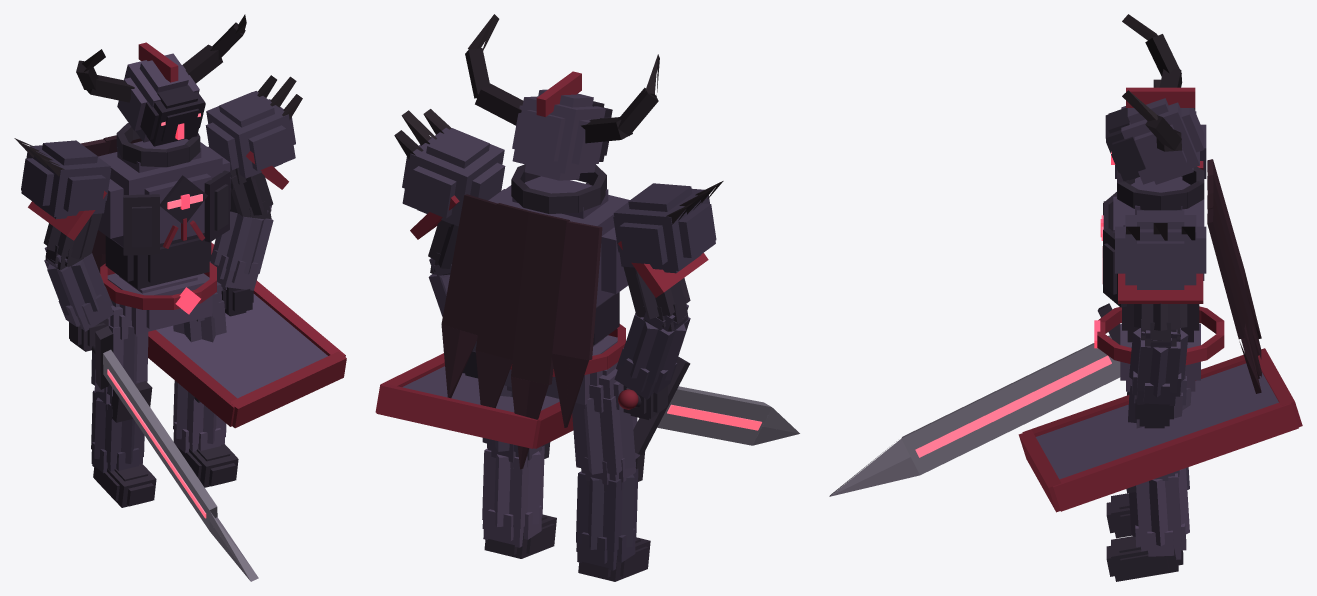
3 renders of one model, left to right at view 1: azimuth 30°, elevation 25°; view 2: azimuth 150°, elevation 25°; view 3: azimuth 270°, elevation 25°, orthographic. The views are drawn at different scales.
Visible parts, largest first — view 1: AbyssKnight; view 2: AbyssKnight; view 3: AbyssKnight.
Boxes of the visible parts, x1,y1,x2,y2 form: AbyssKnight: (14, 14, 346, 581); AbyssKnight: (375, 14, 799, 581); AbyssKnight: (829, 14, 1302, 581).
Bounding box in the file's own units: 0.9711 × 1.56 × 1.34.
